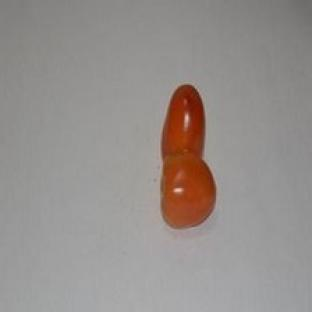Tomato: (162, 152, 215, 228), (162, 85, 204, 158)
